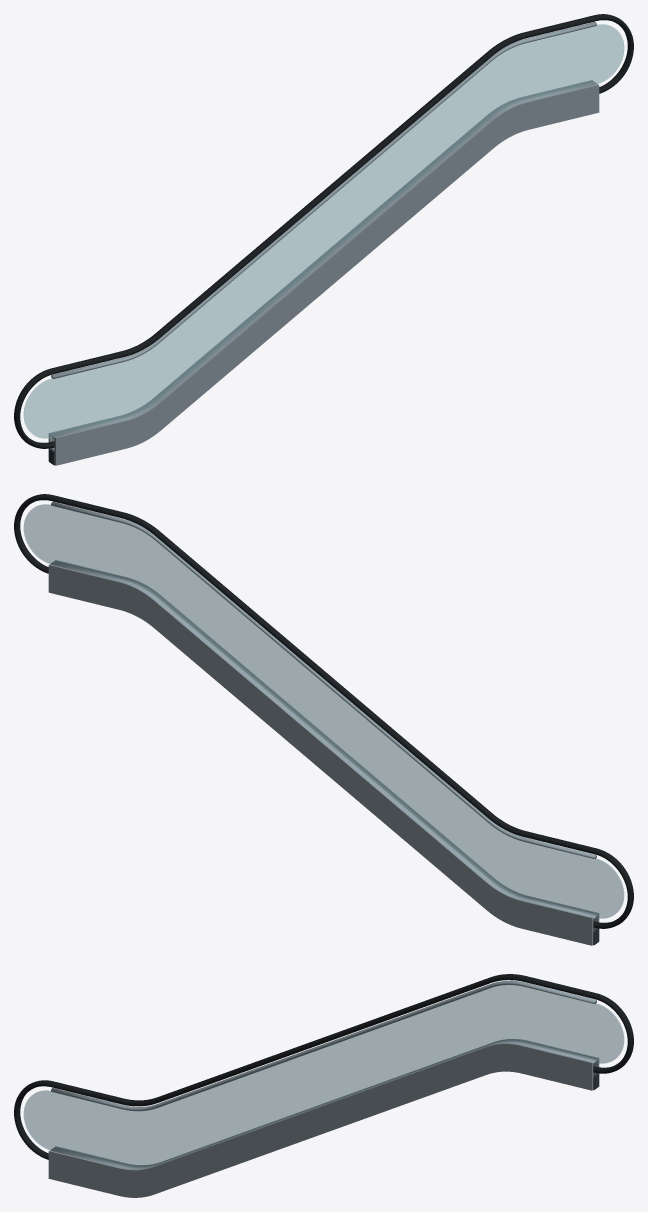
The picture shows the model from 3 angles, top to bottom: view 1: azimuth 30°, elevation 25°; view 2: azimuth 150°, elevation 25°; view 3: azimuth 330°, elevation 25°; orthographic projection.
Parts seen in each view (by area): view 1: MODULE_CurvedGlazing, MODULE_Casing_Near, MODULE_ContinuousRubberBelt, MODULE_LowerGlazingRail, MODULE_UpperGuideRail, MODULE_Casing_Far; view 2: MODULE_CurvedGlazing, MODULE_Casing_Far, MODULE_ContinuousRubberBelt, MODULE_LowerGlazingRail, MODULE_UpperGuideRail, MODULE_Casing_Near; view 3: MODULE_CurvedGlazing, MODULE_Casing_Near, MODULE_ContinuousRubberBelt, MODULE_UpperGuideRail, MODULE_LowerGlazingRail, MODULE_Casing_Far.
Boxes of the visible parts, box(x1,y1,x2,y2) form: MODULE_CurvedGlazing: box(23, 24, 624, 438); MODULE_Casing_Near: box(54, 84, 599, 465); MODULE_ContinuousRubberBelt: box(14, 14, 633, 448); MODULE_LowerGlazingRail: box(49, 81, 597, 440); MODULE_UpperGuideRail: box(51, 22, 596, 378); MODULE_Casing_Far: box(48, 80, 592, 450); MODULE_CurvedGlazing: box(23, 504, 624, 918); MODULE_Casing_Far: box(48, 564, 593, 945); MODULE_ContinuousRubberBelt: box(14, 494, 633, 928); MODULE_LowerGlazingRail: box(50, 561, 598, 920); MODULE_UpperGuideRail: box(51, 502, 596, 858); MODULE_Casing_Near: box(55, 560, 599, 930); MODULE_CurvedGlazing: box(23, 985, 624, 1167); MODULE_Casing_Near: box(48, 1043, 593, 1197); MODULE_ContinuousRubberBelt: box(14, 974, 633, 1159); MODULE_UpperGuideRail: box(51, 980, 596, 1111); MODULE_LowerGlazingRail: box(50, 1040, 598, 1169); MODULE_Casing_Far: box(55, 1039, 599, 1166).
Bounding box in the file's own units: 7.04 × 3.43 × 0.14.
